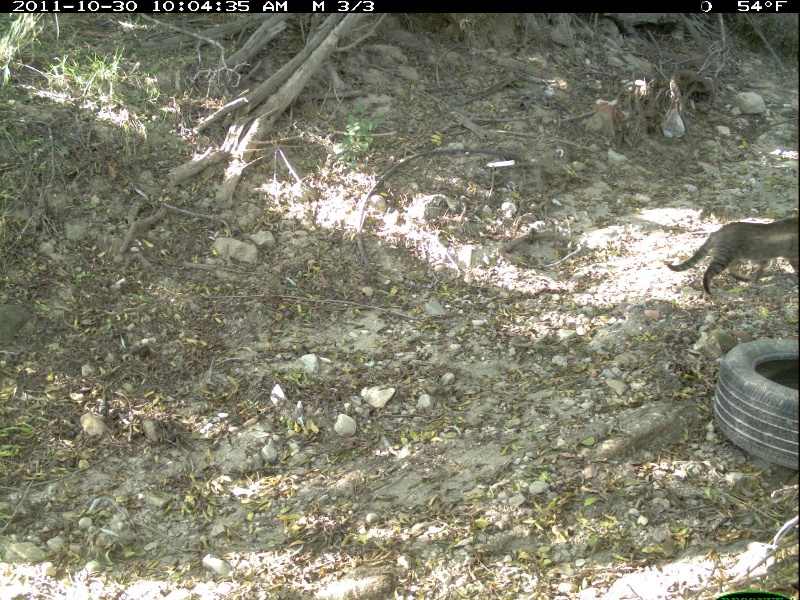cat: (665, 215, 800, 300)
